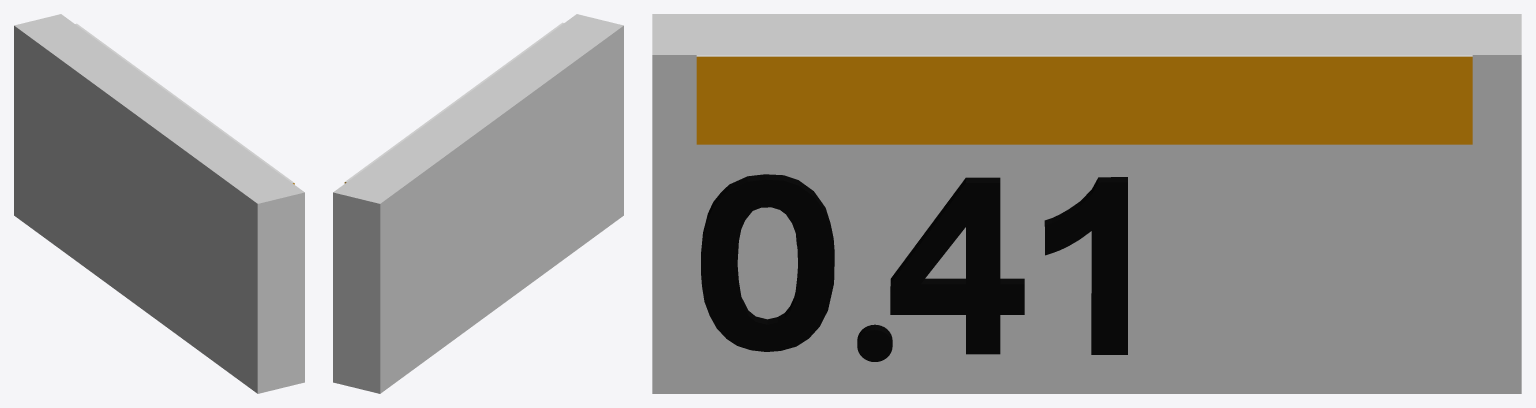
File: 0 41 room.fbx
The picture shows the model from 3 angles, left to right: view 1: azimuth 30°, elevation 25°; view 2: azimuth 150°, elevation 25°; view 3: azimuth 270°, elevation 25°; orthographic projection. The views are drawn at different scales.
Visible parts, largest first — view 1: Cube.001, Cube; view 2: Cube.001, Cube; view 3: Cube.001, Cube, 0, 4, 1, Circle.
Boxes of the visible parts, box(x1,y1,x2,y2) form: Cube.001: box(14, 14, 304, 393); Cube: box(75, 23, 294, 184); Cube.001: box(333, 14, 623, 393); Cube: box(344, 22, 563, 183); Cube.001: box(652, 14, 1521, 393); Cube: box(696, 55, 1472, 144); 0: box(701, 174, 834, 351); 4: box(890, 177, 1024, 354); 1: box(1044, 177, 1127, 354); Circle: box(857, 324, 892, 361).
Size of the model in its own units: 227 by 771 by 1792.
